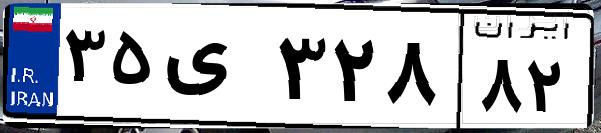2: (330, 28, 385, 110), (525, 38, 570, 115)
3: (270, 28, 330, 110), (57, 26, 110, 100)
5: (110, 28, 158, 98)
8: (385, 28, 445, 110), (475, 38, 525, 113)
ی: (158, 20, 270, 120)
